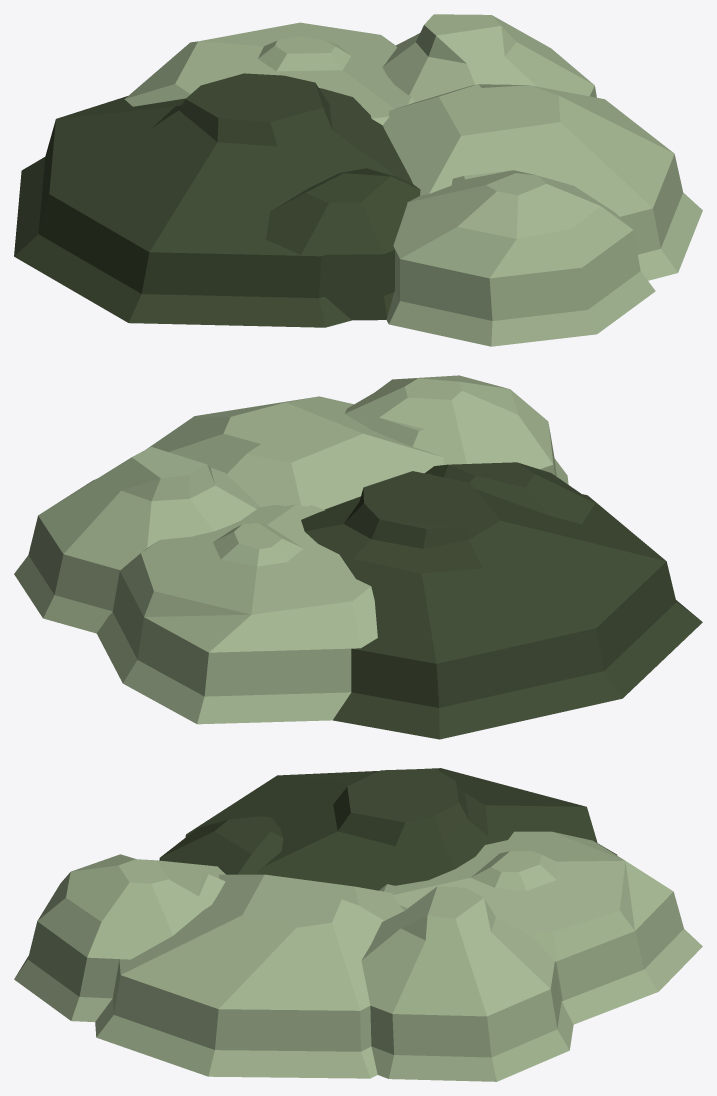
File: EA_Swamp_Grass_Hill_01b.glb
The picture shows the model from 3 angles, top to bottom: view 1: azimuth 30°, elevation 25°; view 2: azimuth 150°, elevation 25°; view 3: azimuth 270°, elevation 25°; orthographic projection. The views are drawn at different scales.
Parts seen in each view (by area): view 1: EA_Swamp_Grass_Hill_01b; view 2: EA_Swamp_Grass_Hill_01b; view 3: EA_Swamp_Grass_Hill_01b.
Part boxes in pixels (<box>): EA_Swamp_Grass_Hill_01b: <box>14,14,702,346</box>; EA_Swamp_Grass_Hill_01b: <box>14,375,702,739</box>; EA_Swamp_Grass_Hill_01b: <box>14,768,702,1081</box>.
Size of the model in its own units: 1.38 by 0.2865 by 1.48.
Materials: 1 (1 with a texture image).
